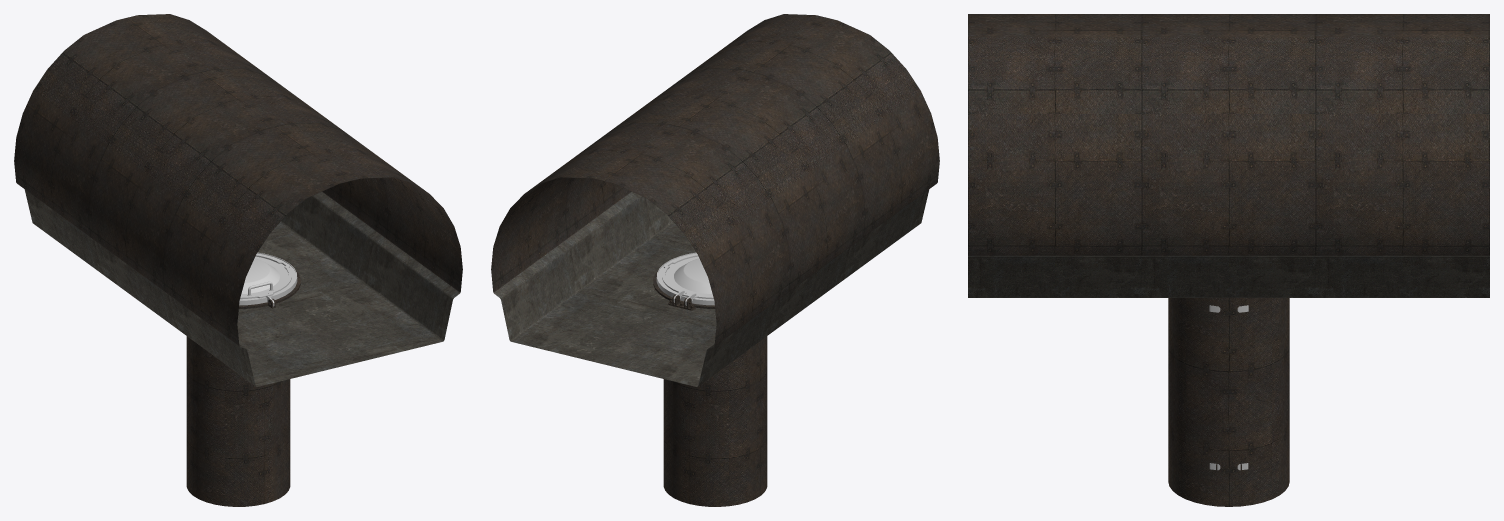
File: tunnel_manhole_shaft_end_1.fbx
3 renders of one model, left to right at view 1: azimuth 30°, elevation 25°; view 2: azimuth 150°, elevation 25°; view 3: azimuth 270°, elevation 25°, orthographic. The views are drawn at different scales.
Visible parts, largest first — view 1: tunnel_manhole_shaft_end_1, tunnel_manhole_cover_1; view 2: tunnel_manhole_shaft_end_1, tunnel_manhole_cover_1; view 3: tunnel_manhole_shaft_end_1.
Boxes of the visible parts, x1,y1,x2,y2 form: tunnel_manhole_shaft_end_1: (14, 14, 462, 506); tunnel_manhole_cover_1: (239, 252, 297, 306); tunnel_manhole_shaft_end_1: (491, 14, 939, 506); tunnel_manhole_cover_1: (656, 252, 714, 305); tunnel_manhole_shaft_end_1: (968, 14, 1489, 506).
Bounding box in the file's own units: 3.5 × 6 × 5.72.
